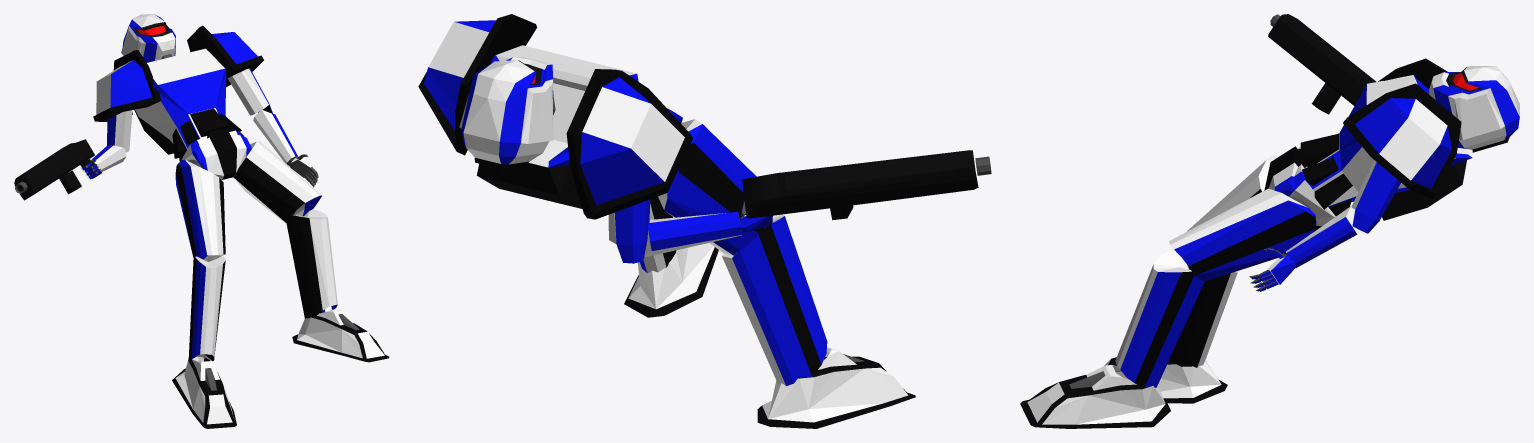
File: robots_000019.obj
The picture shows the model from 3 angles, left to right: view 1: azimuth 30°, elevation 25°; view 2: azimuth 150°, elevation 25°; view 3: azimuth 270°, elevation 25°; orthographic projection. The views are drawn at different scales.
Parts seen in each view (by area): view 1: Chest_plate_Cube.004, R_Shin.002_Cube.029, R_Thigh_Cube.005, R_Thigh.002_Cube.027, Cube.002_Cube.059, R_Shin_Cube.007, R_Foot.002_Cube.035, R_Foot_Cube, Cube_Cube.001, Pelvis_Cube.006, Cube_Cube.021, Head_base_Cube.022 (+4 smaller); view 2: Cube.002_Cube.059, Cube_Cube.001, R_Shin_Cube.007, Head_base_Cube.022, R_Foot_Cube, Chest_plate_Cube.004, Cube_Cube.021, R_Thigh_Cube.005, R_Foot.002_Cube.035, R_Forearm_Cube.008, R_Arm_Cube.002, R_Shin.002_Cube.029; view 3: Cube_Cube.021, R_Thigh.002_Cube.027, Chest_plate_Cube.004, R_Foot.002_Cube.035, R_Shin.002_Cube.029, Head_base_Cube.022, Cube_Cube.001, R_Shin_Cube.007, Pelvis_Cube.006, R_Foot_Cube, L_Arm_Cube.014, L_Forearm_Cube.020 (+3 smaller).
Part boxes in pixels (x1,y1,x2,y2): Chest_plate_Cube.004: (134, 48, 244, 158); R_Shin.002_Cube.029: (286, 209, 337, 318); R_Thigh_Cube.005: (175, 159, 225, 261); R_Thigh.002_Cube.027: (234, 141, 321, 224); Cube.002_Cube.059: (93, 50, 161, 121); R_Shin_Cube.007: (188, 256, 225, 361); R_Foot.002_Cube.035: (292, 308, 389, 362); R_Foot_Cube: (172, 354, 236, 428); Cube_Cube.001: (14, 139, 101, 200); Pelvis_Cube.006: (179, 128, 251, 179); Cube_Cube.021: (187, 25, 263, 87); Head_base_Cube.022: (121, 14, 175, 62); Cube.002_Cube.059: (566, 69, 692, 219); Cube_Cube.001: (742, 150, 991, 220); R_Shin_Cube.007: (719, 214, 827, 386); Head_base_Cube.022: (459, 57, 553, 169); R_Foot_Cube: (757, 347, 915, 428); Chest_plate_Cube.004: (477, 45, 638, 208); Cube_Cube.021: (418, 14, 537, 155); R_Thigh_Cube.005: (658, 119, 763, 255); R_Foot.002_Cube.035: (624, 217, 718, 317); R_Forearm_Cube.008: (644, 211, 741, 257); R_Arm_Cube.002: (608, 199, 650, 263); R_Shin.002_Cube.029: (640, 196, 676, 273); Cube_Cube.021: (1343, 83, 1461, 199); R_Thigh.002_Cube.027: (1169, 188, 1316, 281); Chest_plate_Cube.004: (1300, 75, 1472, 220); R_Foot.002_Cube.035: (1020, 365, 1170, 428); R_Shin.002_Cube.029: (1115, 250, 1204, 387); Head_base_Cube.022: (1429, 66, 1519, 152); Cube_Cube.001: (1268, 14, 1376, 114); R_Shin_Cube.007: (1169, 271, 1237, 367); Pelvis_Cube.006: (1264, 146, 1351, 231); R_Foot_Cube: (1104, 357, 1227, 403); L_Arm_Cube.014: (1351, 160, 1400, 233); L_Forearm_Cube.020: (1286, 206, 1362, 267).
Size of the model in its own units: 2.52 by 2.32 by 2.79.
